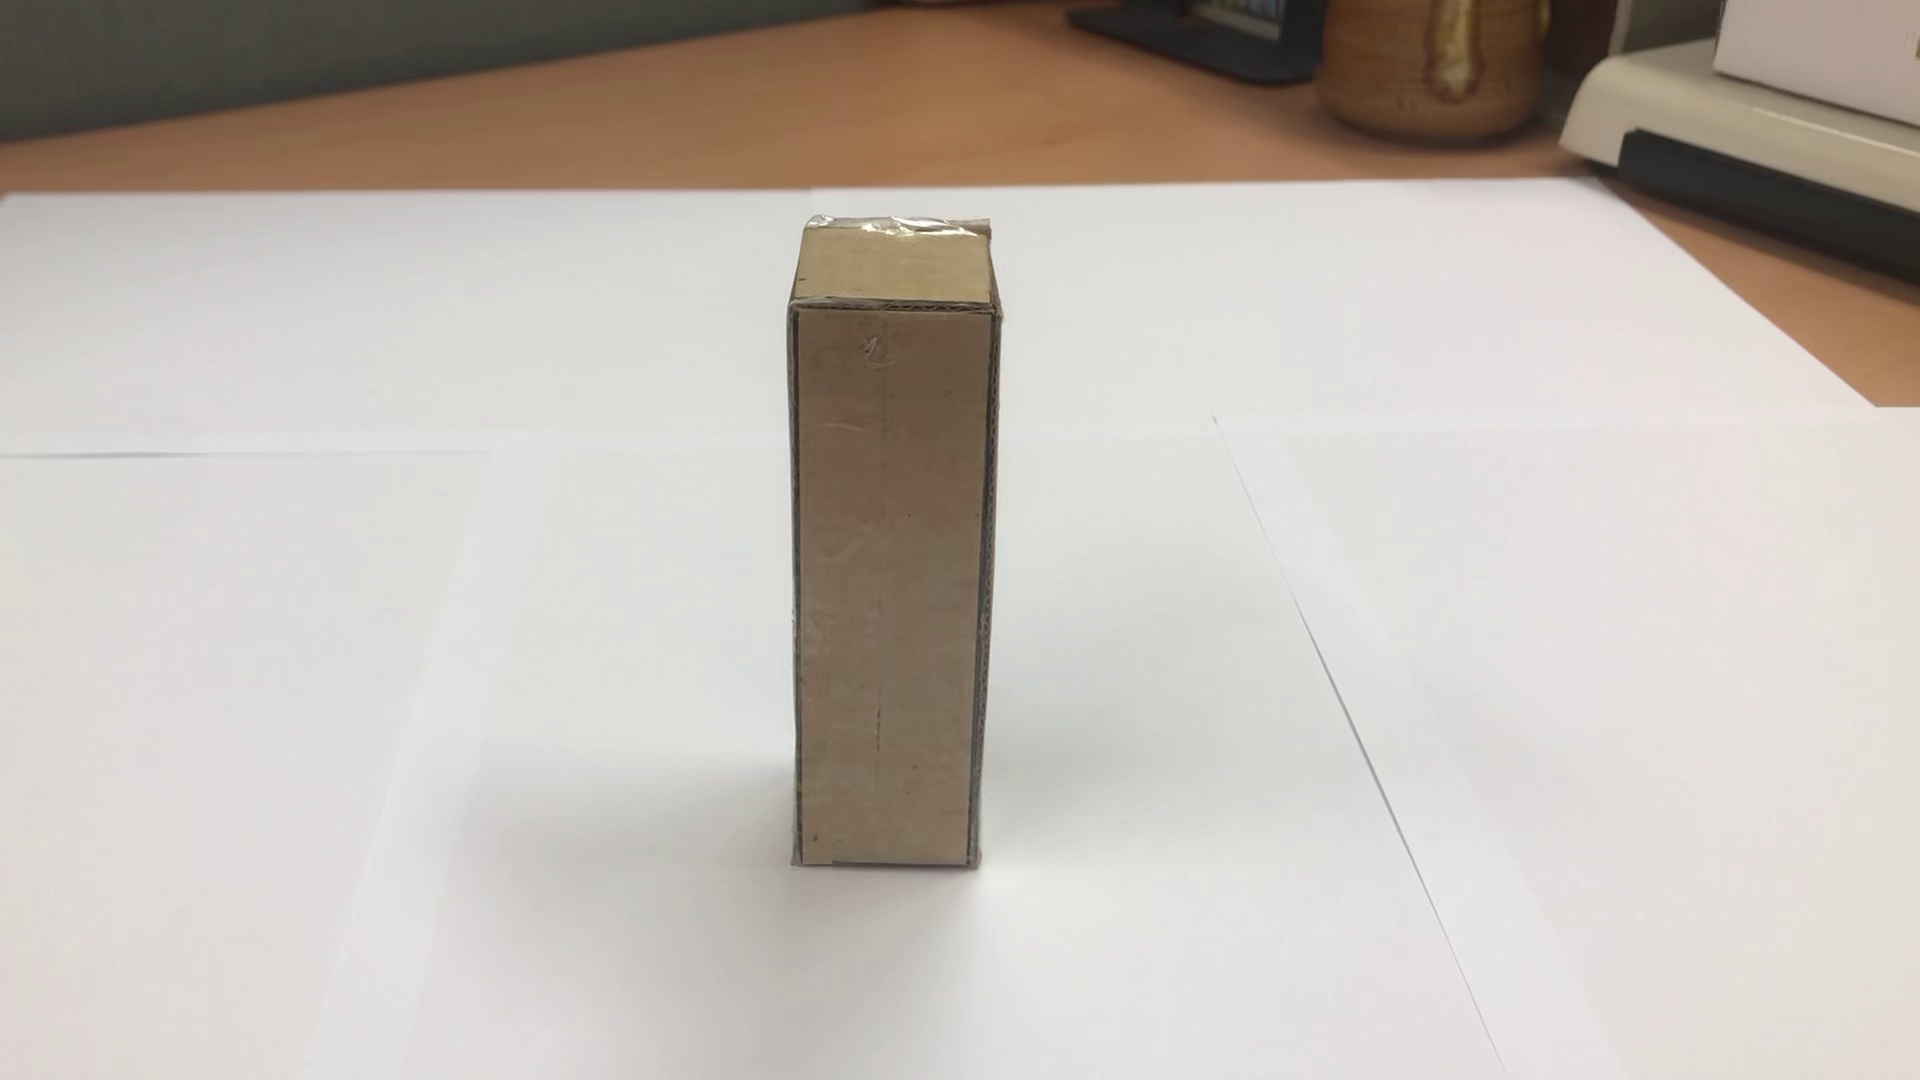box: (775, 210, 997, 868)
